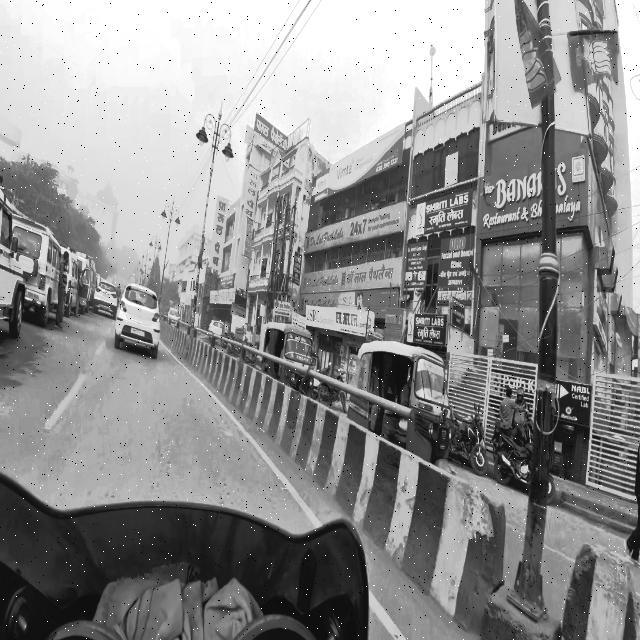Auto-Rickshaw: (346, 326, 466, 474), (259, 316, 319, 393)
Car: (14, 215, 69, 318), (116, 273, 164, 373)
